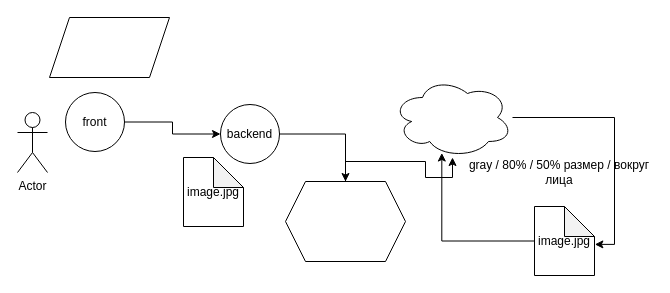
Image size: 670x293. Some labels were removed from this diagram. The shapes that lost their labels are listed below. From the top down, each one's centre as x and y in pixels, then its label:
At (109,47): "jinja2: HTML + CSS".
At (452,117): "opencv".
At (345,221): "хранилище".
